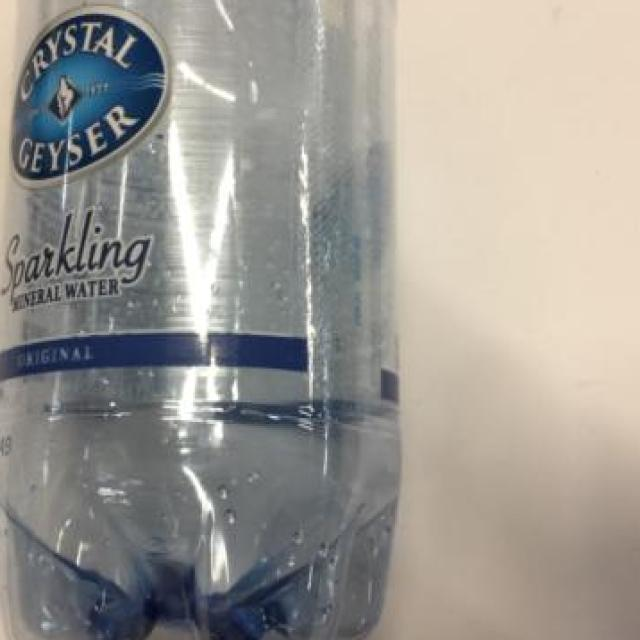organic: (13, 7, 405, 624)
